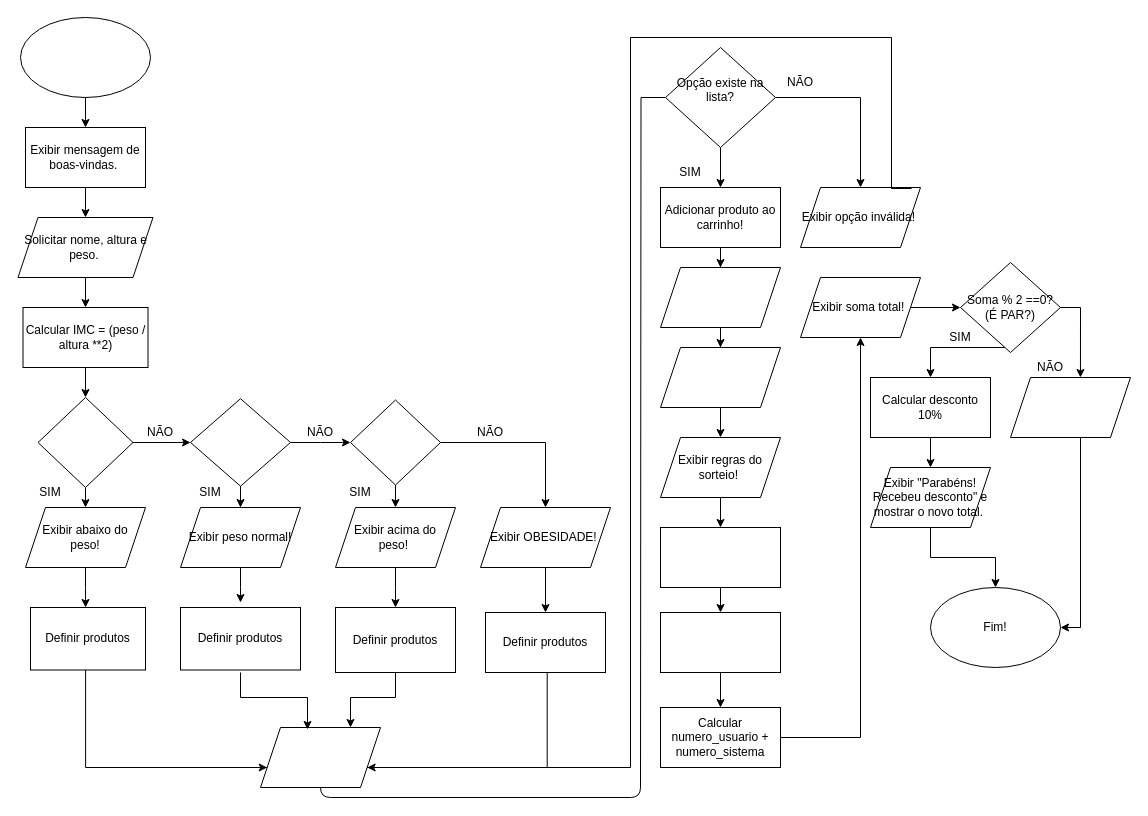
Image size: 1148x816. Some labels were removed from this diagram. Here are the shapes that lost their labels. From the top down, the box of each, then its label:
(20, 16, 150, 98): Início
(660, 266, 780, 328): Exibir "Produto adicionado!"
(660, 346, 780, 408): Exibir total da compra!
(1010, 376, 1130, 438): Tente novamente da próxima vez!
(37, 396, 133, 488): IMC <18.5?
(190, 398, 290, 486): IMC <25?
(350, 399, 440, 485): IMC <30?
(660, 526, 780, 588): Ler número do usuário!
(660, 612, 780, 672): Sortear número do sistema!
(260, 726, 380, 788): Exibir produtos da categoria!
